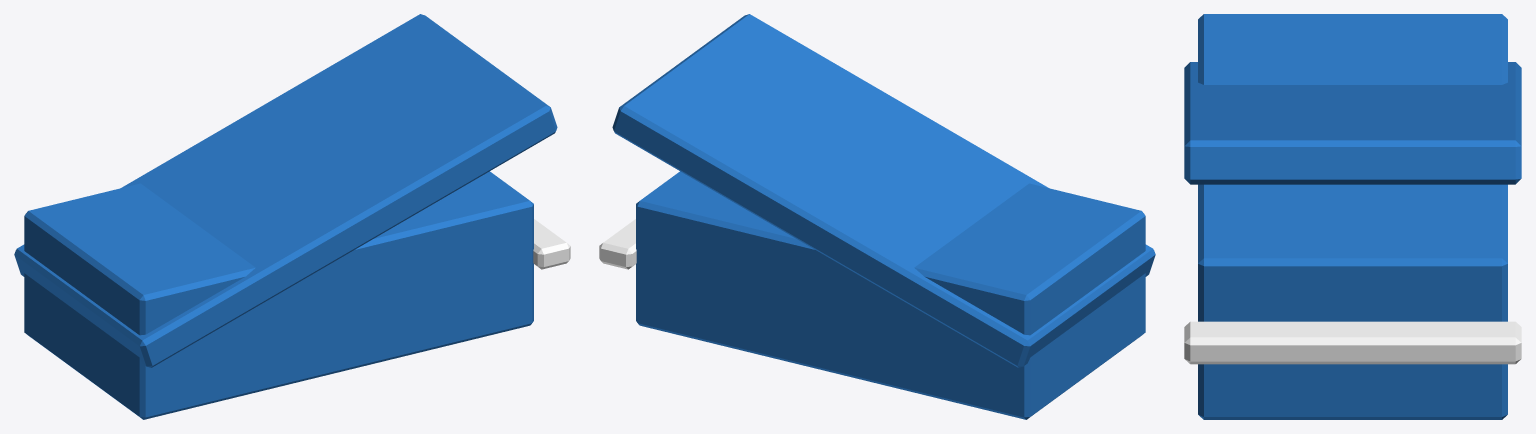
File: ramp_short.glb
3 views of the same model, side by side, from view 1: azimuth 30°, elevation 25°; view 2: azimuth 150°, elevation 25°; view 3: azimuth 270°, elevation 25° (orthographic). The views are drawn at different scales.
Parts seen in each view (by area): view 1: ramp_short; view 2: ramp_short; view 3: ramp_short.
Boxes of the visible parts, <box> form: ramp_short: <box>14,14,570,419</box>; ramp_short: <box>599,14,1155,419</box>; ramp_short: <box>1184,14,1521,419</box>.
Bounding box in the file's own units: 0.6501 × 0.3186 × 0.34.
